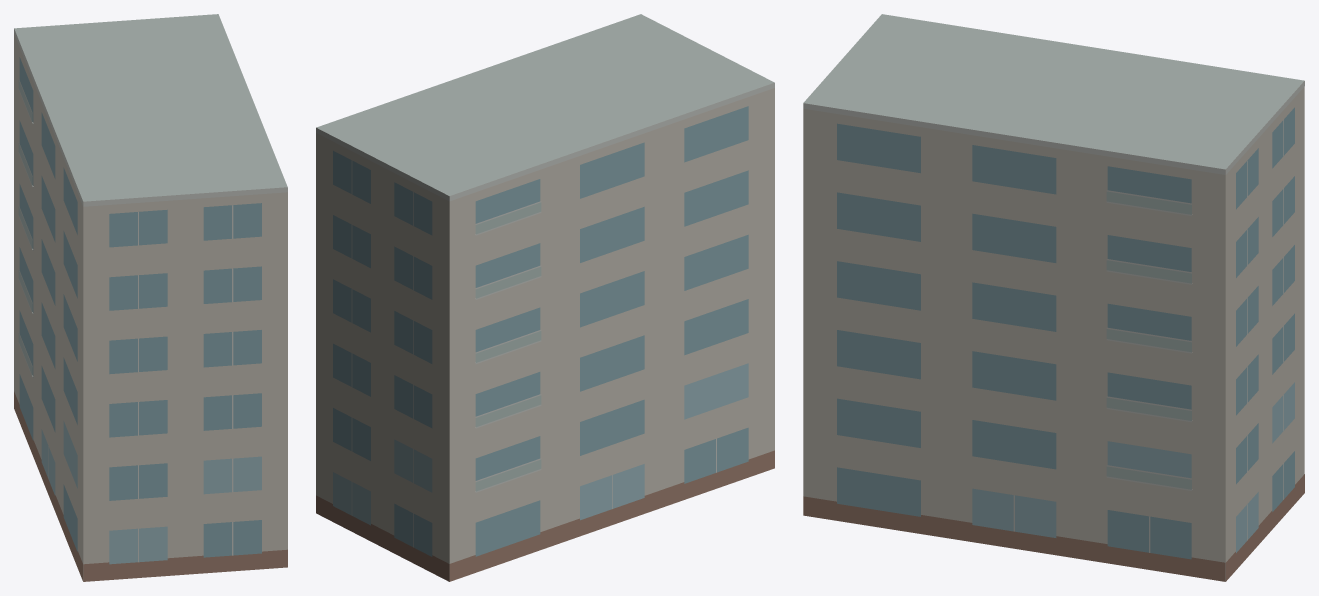
File: survey-upis-32538078.glb
The picture shows the model from 3 angles, left to right: view 1: azimuth 30°, elevation 25°; view 2: azimuth 150°, elevation 25°; view 3: azimuth 270°, elevation 25°; orthographic projection. The views are drawn at different scales.
Parts seen in each view (by area): view 1: survey-upis-32538078.tmp; view 2: survey-upis-32538078.tmp; view 3: survey-upis-32538078.tmp.
Boxes of the visible parts, <box> form: survey-upis-32538078.tmp: <box>14,14,287,581</box>; survey-upis-32538078.tmp: <box>316,14,774,581</box>; survey-upis-32538078.tmp: <box>803,14,1304,581</box>.
Size of the model in its own units: 14.56 by 18 by 19.85.
